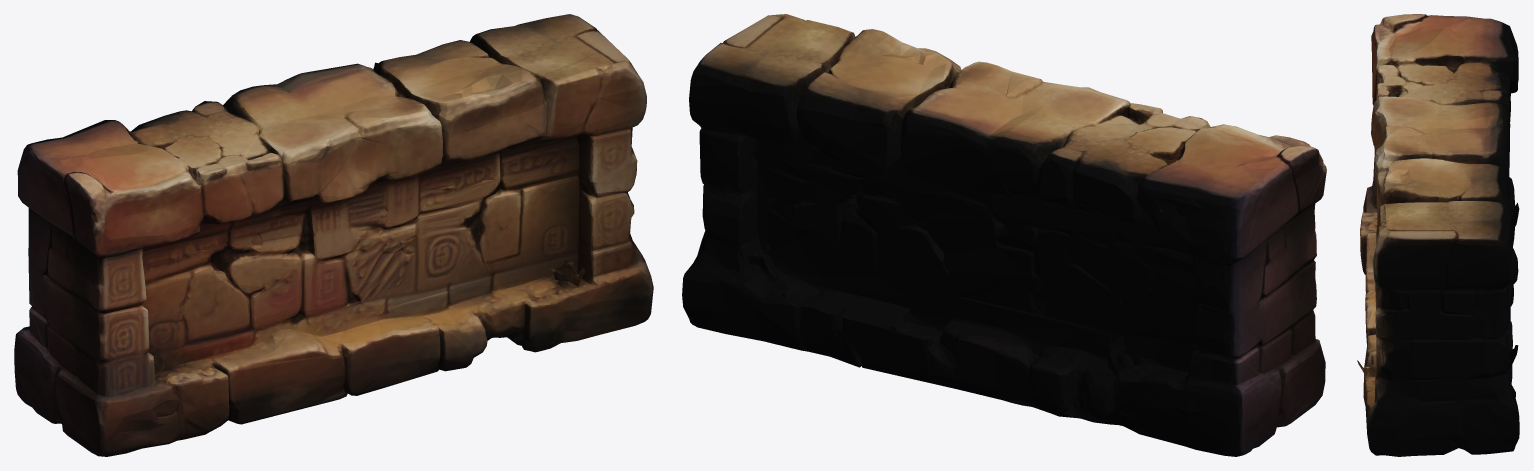
Rendered from wallSeg.glb.
3 views of the same model, side by side, from view 1: azimuth 30°, elevation 25°; view 2: azimuth 150°, elevation 25°; view 3: azimuth 270°, elevation 25° (orthographic). The views are drawn at different scales.
Visible parts, largest first — view 1: world; view 2: world; view 3: world.
Boxes of the visible parts, x1,y1,x2,y2 form: world: [14, 14, 653, 456]; world: [682, 14, 1326, 456]; world: [1357, 14, 1519, 456].
Bounding box in the file's own units: 0.9967 × 0.4634 × 0.3041.
1 material, 1 textured.
